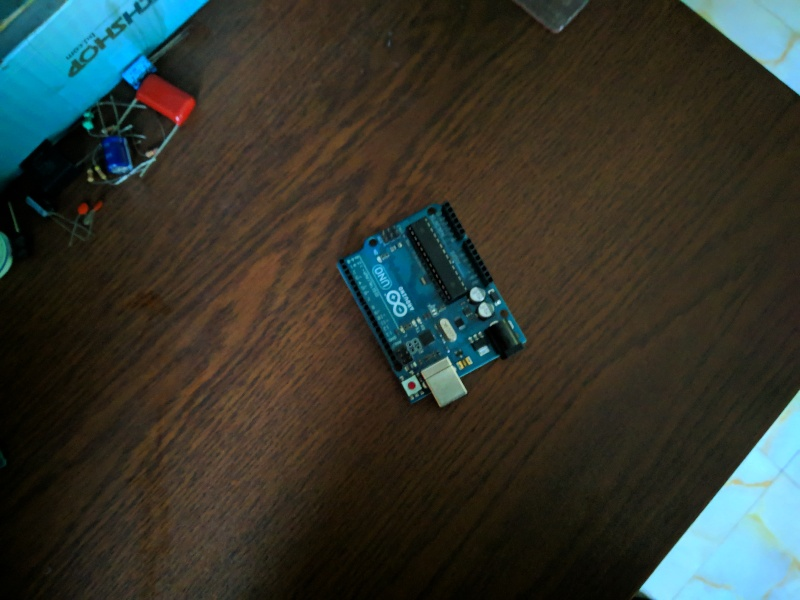Arduino UNO: (329, 193, 538, 421)
